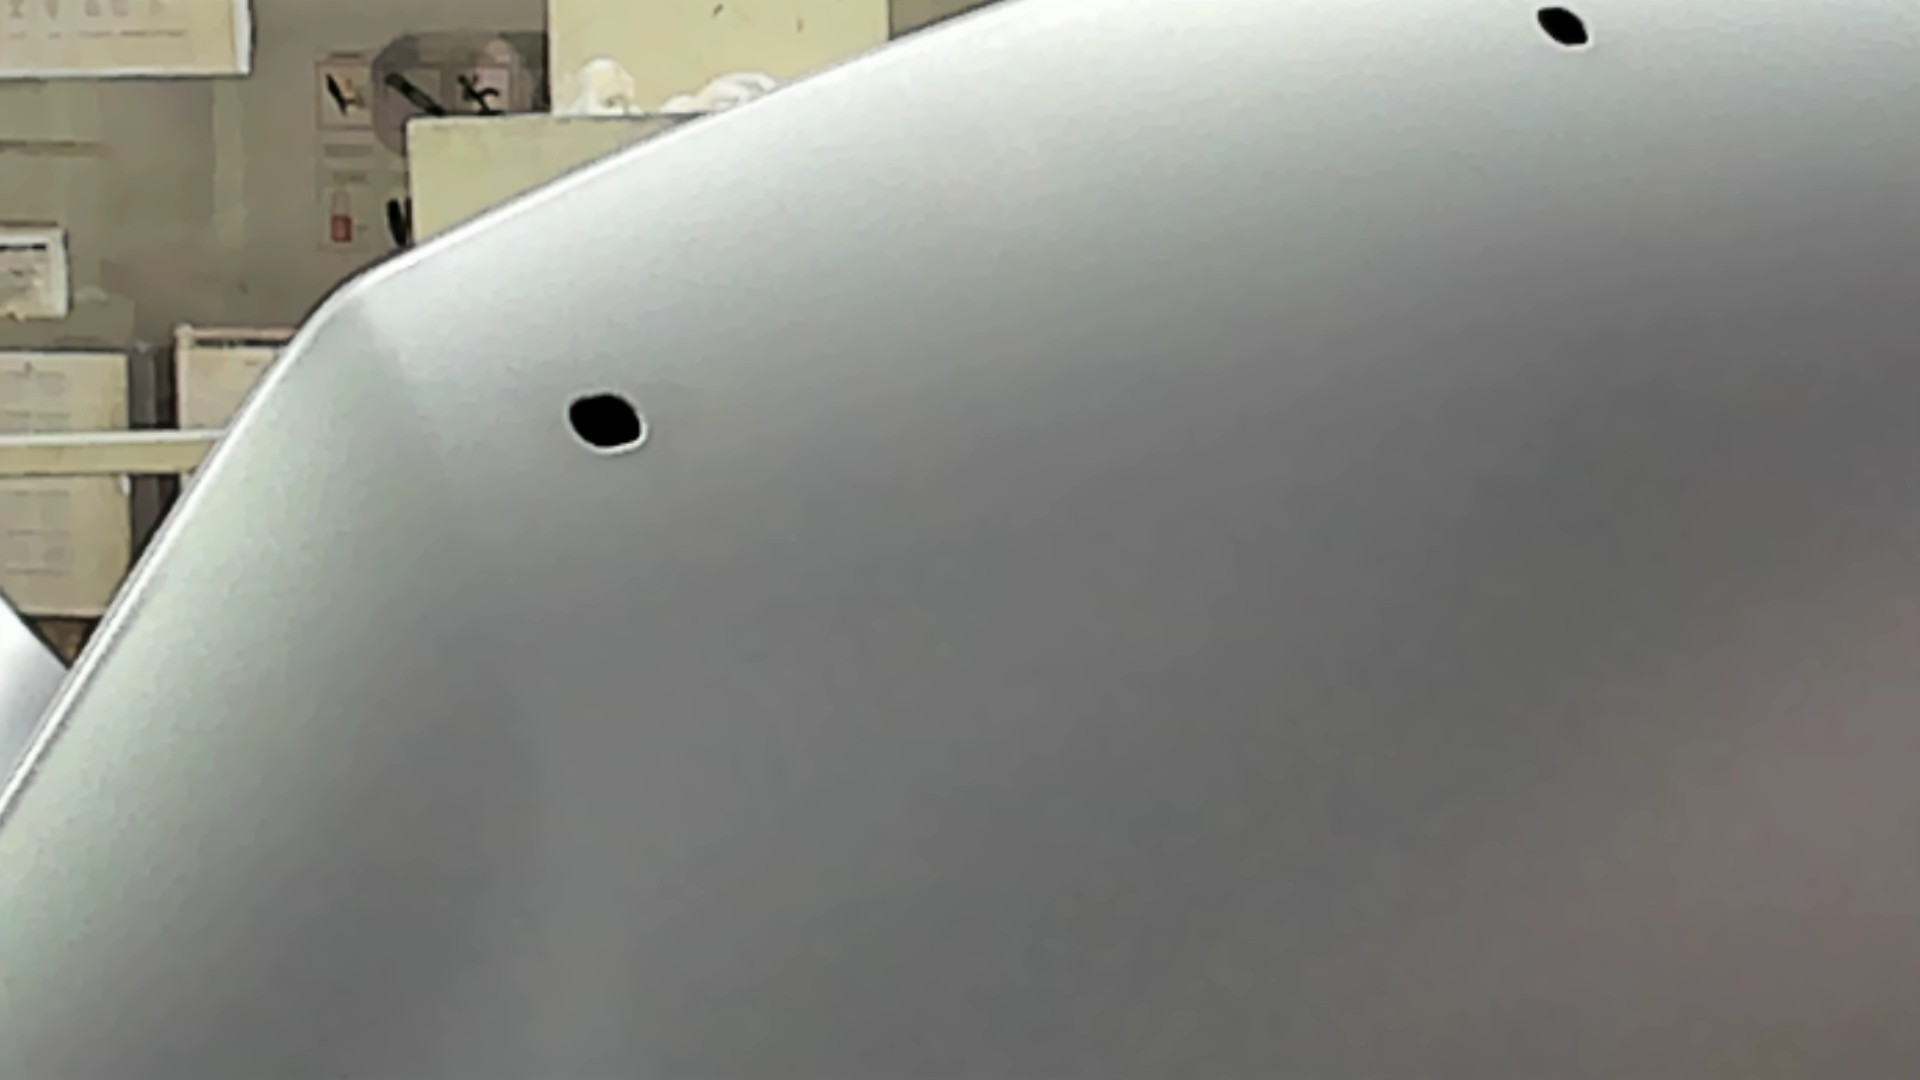amorfo: (560, 386, 651, 458), (1528, 1, 1596, 51)
